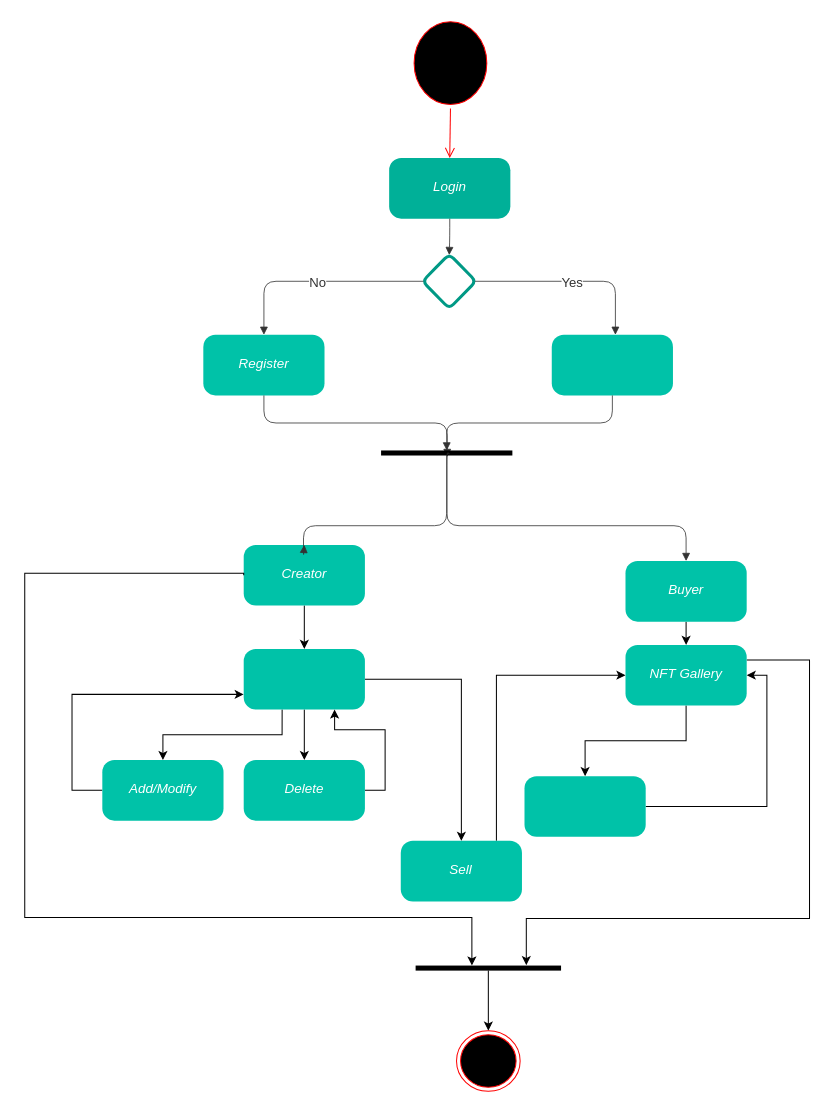
Image size: 835x1109. Some labels were removed from this diagram. The centre of each missing label's shape, as x and y in pixels:
"Authenticate" belongs at point (612, 364).
"Buy" belongs at point (585, 806).
"Dashboard" belongs at point (304, 678).
"Registered User" belongs at point (516, 256).
